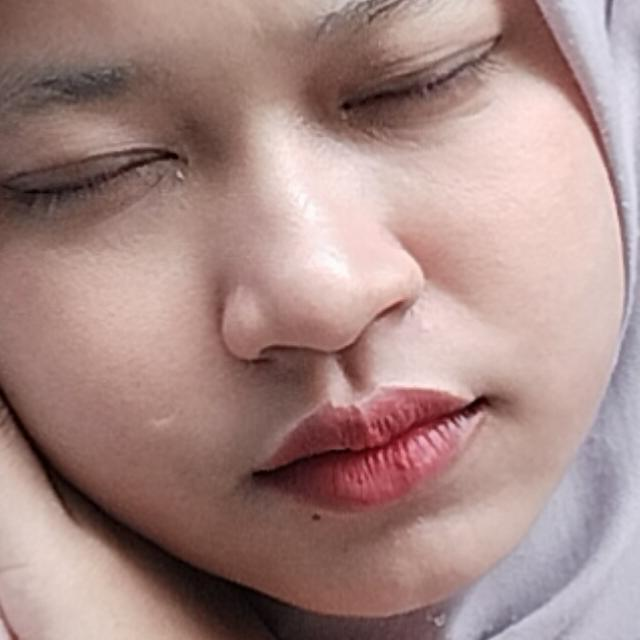tidur: (0, 38, 516, 640)
